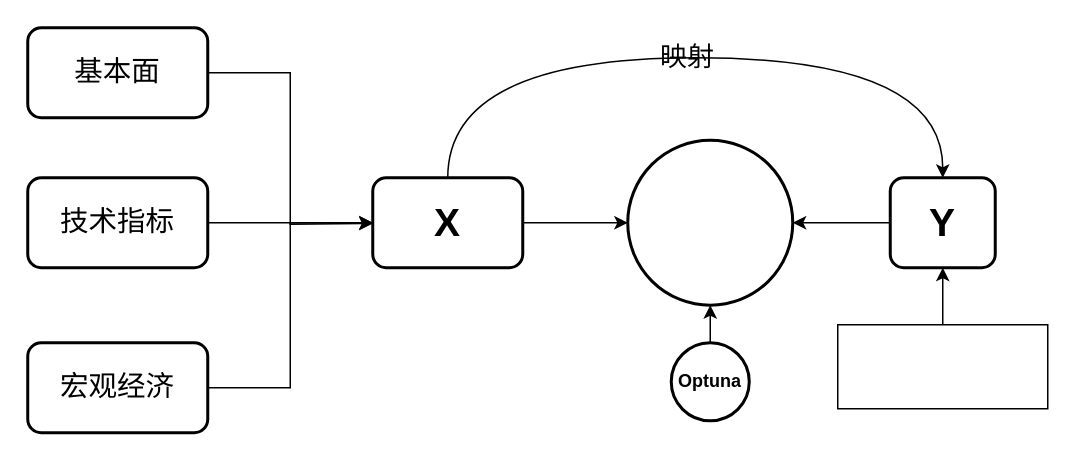
Some shapes in this 1074 by 459 pixel diagram are drawn without their labels. Here are the shapes that lost their labels. From the top down, the centre of each, then its label:
the point at 710,222: LightGBM
the point at 942,366: 择时指标： 单位时期内的收益率
